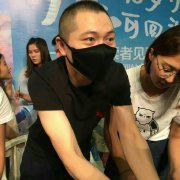NONE: (154, 57, 180, 91), (29, 50, 45, 65), (1, 64, 15, 80)
OK: (72, 28, 119, 75)
